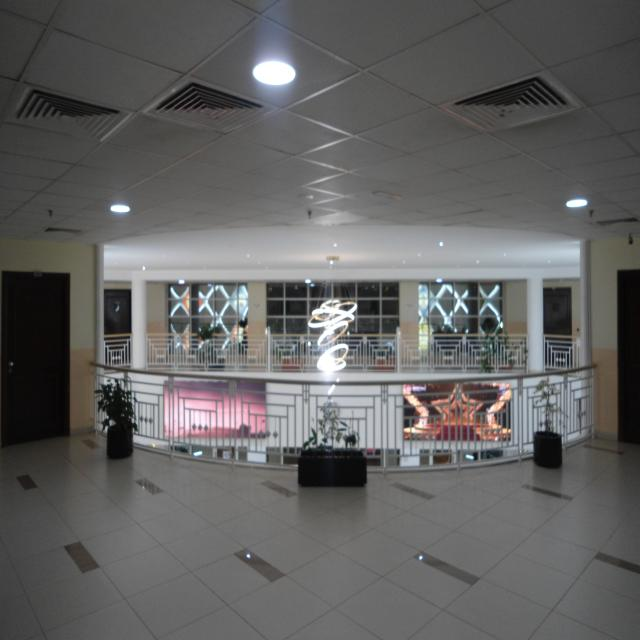bush: (285, 399, 369, 489), (98, 379, 136, 456), (537, 381, 567, 464)
door: (0, 273, 71, 439), (615, 264, 640, 452), (546, 286, 573, 374), (103, 286, 130, 353)
light: (304, 269, 358, 398), (253, 40, 304, 100)
pillar: (522, 281, 543, 378), (130, 278, 148, 381)
railing: (82, 348, 603, 464), (146, 329, 522, 372), (94, 330, 134, 380), (542, 326, 581, 376)
window: (261, 282, 401, 366), (418, 282, 508, 374), (166, 281, 251, 369)
